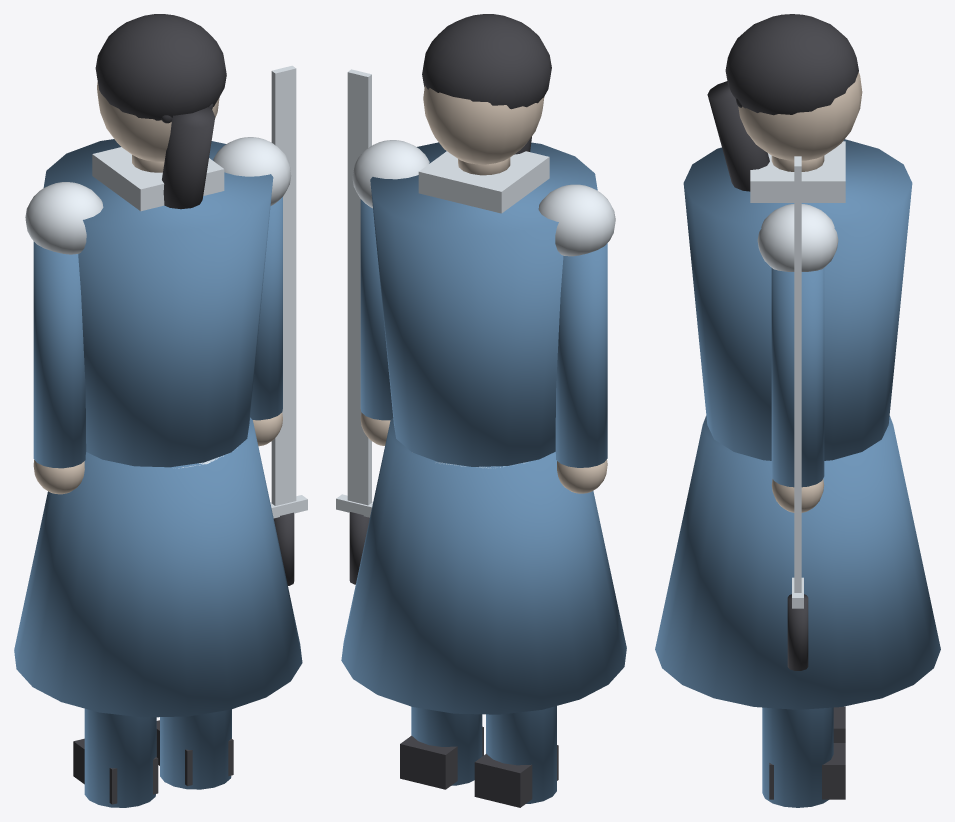
The model's file is gu-changfeng.glb.
The picture shows the model from 3 angles, left to right: view 1: azimuth 30°, elevation 25°; view 2: azimuth 150°, elevation 25°; view 3: azimuth 270°, elevation 25°; orthographic projection.
Visible parts, largest first — view 1: gu-changfeng_robe, gu-changfeng_torso, gu-changfeng_hair, gu-changfeng_arm-0.235, gu-changfeng_blade, gu-changfeng_leg-0.09, gu-changfeng_arm0.235, gu-changfeng_leg0.09, gu-changfeng_shoulder-0.22, gu-changfeng_pigtail, gu-changfeng_collar, gu-changfeng_shoulder0.22 (+6 smaller); view 2: gu-changfeng_robe, gu-changfeng_torso, gu-changfeng_arm-0.235, gu-changfeng_hair, gu-changfeng_blade, gu-changfeng_head, gu-changfeng_collar, gu-changfeng_arm0.235, gu-changfeng_leg-0.09, gu-changfeng_shoulder-0.22, gu-changfeng_leg0.09, gu-changfeng_shoulder0.22 (+6 smaller); view 3: gu-changfeng_robe, gu-changfeng_torso, gu-changfeng_hair, gu-changfeng_arm0.235, gu-changfeng_leg0.09, gu-changfeng_head, gu-changfeng_shoulder0.22, gu-changfeng_collar, gu-changfeng_blade, gu-changfeng_pigtail, gu-changfeng_grip, gu-changfeng_boot0.09 (+2 smaller).
Boxes of the visible parts, left/top/right/bottom form: gu-changfeng_robe: left=14, top=417, right=302, bottom=717; gu-changfeng_torso: left=43, top=139, right=273, bottom=467; gu-changfeng_hair: left=95, top=14, right=226, bottom=120; gu-changfeng_arm-0.235: left=33, top=241, right=86, bottom=468; gu-changfeng_blade: left=271, top=65, right=296, bottom=505; gu-changfeng_leg-0.09: left=84, top=708, right=156, bottom=807; gu-changfeng_arm0.235: left=250, top=197, right=282, bottom=420; gu-changfeng_leg0.09: left=160, top=709, right=231, bottom=789; gu-changfeng_shoulder-0.22: left=25, top=182, right=103, bottom=254; gu-changfeng_pigtail: left=162, top=107, right=215, bottom=209; gu-changfeng_collar: left=92, top=147, right=224, bottom=211; gu-changfeng_shoulder0.22: left=213, top=137, right=291, bottom=205; gu-changfeng_robe: left=341, top=418, right=626, bottom=714; gu-changfeng_torso: left=370, top=142, right=597, bottom=466; gu-changfeng_arm-0.235: left=555, top=243, right=607, bottom=467; gu-changfeng_hair: left=422, top=14, right=551, bottom=109; gu-changfeng_blade: left=347, top=69, right=371, bottom=505; gu-changfeng_head: left=423, top=86, right=544, bottom=164; gu-changfeng_collar: left=418, top=151, right=549, bottom=213; gu-changfeng_arm0.235: left=360, top=199, right=393, bottom=420; gu-changfeng_leg-0.09: left=486, top=706, right=556, bottom=803; gu-changfeng_shoulder-0.22: left=538, top=184, right=615, bottom=256; gu-changfeng_leg0.09: left=411, top=706, right=482, bottom=785; gu-changfeng_shoulder0.22: left=352, top=140, right=429, bottom=208; gu-changfeng_robe: left=655, top=416, right=940, bottom=709; gu-changfeng_torso: left=683, top=139, right=912, bottom=460; gu-changfeng_hair: left=725, top=14, right=858, bottom=115; gu-changfeng_arm0.235: left=771, top=268, right=824, bottom=487; gu-changfeng_leg0.09: left=762, top=707, right=833, bottom=807; gu-changfeng_head: left=738, top=72, right=862, bottom=160; gu-changfeng_shoulder0.22: left=757, top=204, right=838, bottom=271; gu-changfeng_collar: left=750, top=141, right=845, bottom=202; gu-changfeng_blade: left=794, top=156, right=801, bottom=592; gu-changfeng_pigtail: left=707, top=81, right=769, bottom=191; gu-changfeng_grip: left=787, top=594, right=808, bottom=670; gu-changfeng_boot0.09: left=769, top=743, right=845, bottom=799.
Bounding box in the file's own units: 0.655 × 1.74 × 0.6.
